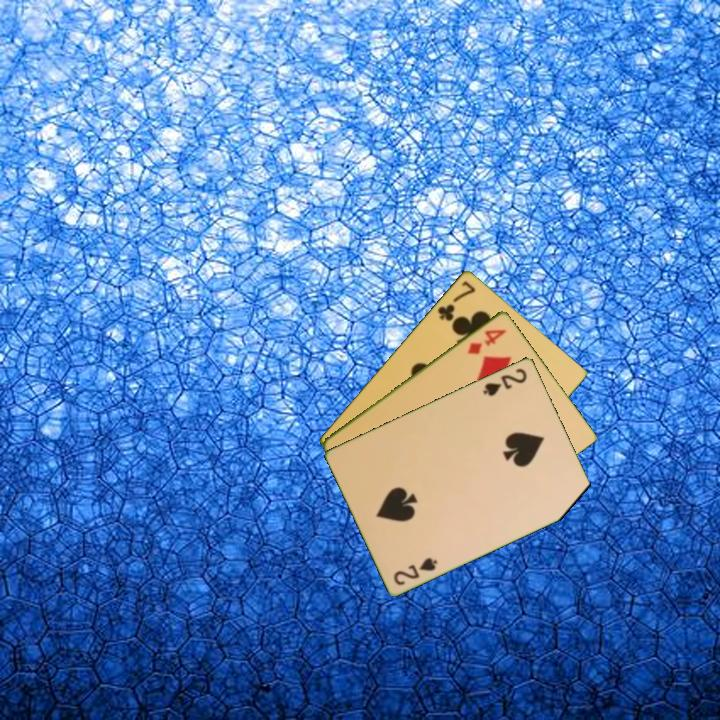2s: (479, 364, 530, 399), (390, 553, 441, 588)
4d: (464, 325, 509, 357)
7c: (434, 277, 478, 324)
